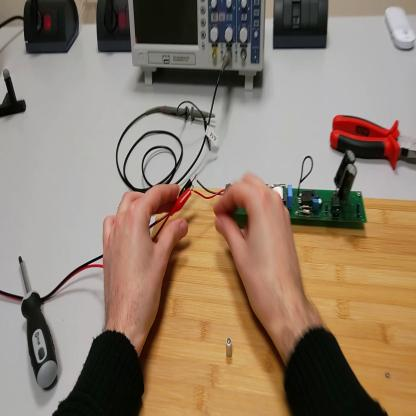hand: (215, 173, 307, 334), (101, 185, 189, 336)
high voltage board: (194, 149, 371, 231)
oscilloscope: (130, 2, 268, 88)
oscilloscope probe tip: (159, 98, 219, 125)
pliers: (332, 114, 416, 173)
screwdriver-: (17, 253, 58, 391)
socket: (22, 1, 82, 56), (97, 2, 132, 55)
working area: (136, 180, 416, 414)
